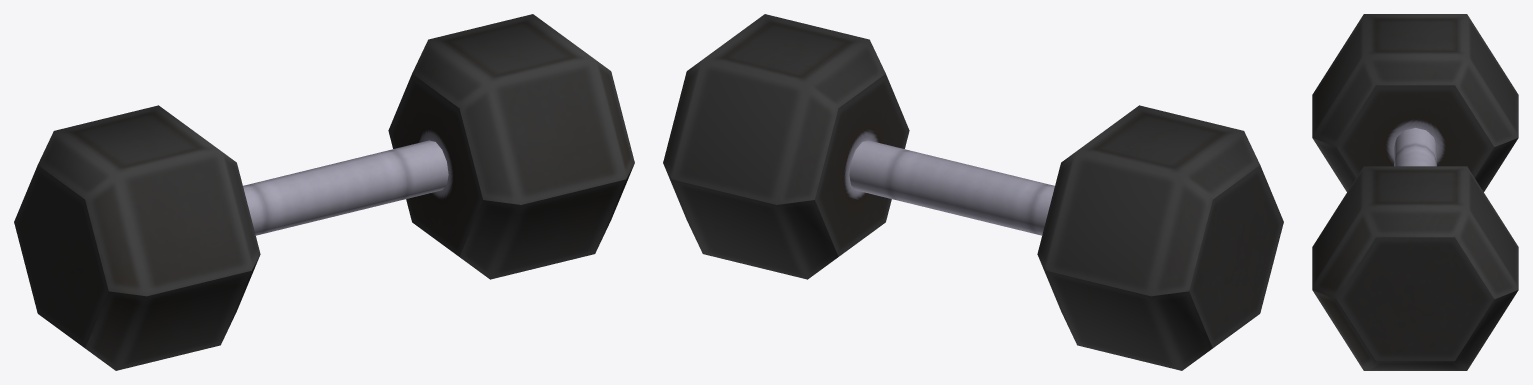
File: MSH_DumbBell_01.FBX
The picture shows the model from 3 angles, left to right: view 1: azimuth 30°, elevation 25°; view 2: azimuth 150°, elevation 25°; view 3: azimuth 270°, elevation 25°; orthographic projection. The views are drawn at different scales.
Visible parts, largest first — view 1: MSH_DumbBell_01; view 2: MSH_DumbBell_01; view 3: MSH_DumbBell_01.
Part boxes in pixels (box(x1,y1,x2,y2)): MSH_DumbBell_01: box(14, 14, 634, 370); MSH_DumbBell_01: box(663, 14, 1283, 370); MSH_DumbBell_01: box(1312, 14, 1518, 370).
Size of what is drawn, in the model's own units: 36.84 by 15.04 by 13.03.
